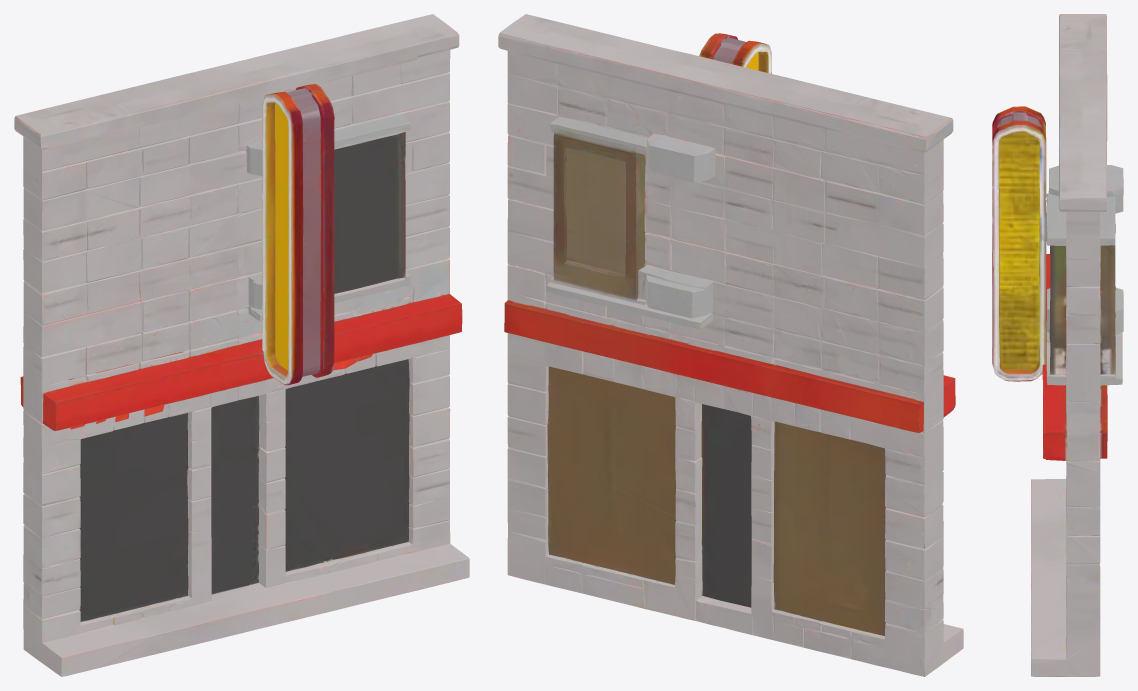
Rendered from facade-neon-bar.glb.
3 views of the same model, side by side, from view 1: azimuth 30°, elevation 25°; view 2: azimuth 150°, elevation 25°; view 3: azimuth 270°, elevation 25° (orthographic). The views are drawn at different scales.
Parts seen in each view (by area): view 1: geometry_0; view 2: geometry_0; view 3: geometry_0.
Part boxes in pixels (x1,y1,x2,y2): geometry_0: (14,14,469,676); geometry_0: (498,14,963,676); geometry_0: (992,14,1123,676).
Size of the model in its own units: 0.822 by 1 by 0.2469.
1 material, 1 textured.
